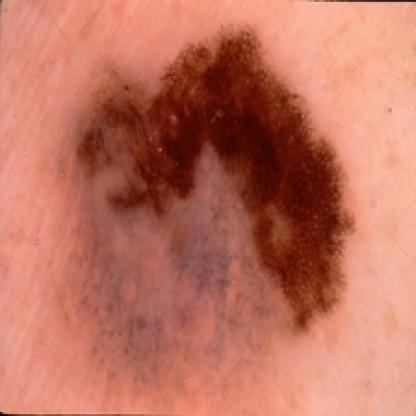malignant: (76, 13, 359, 334)
